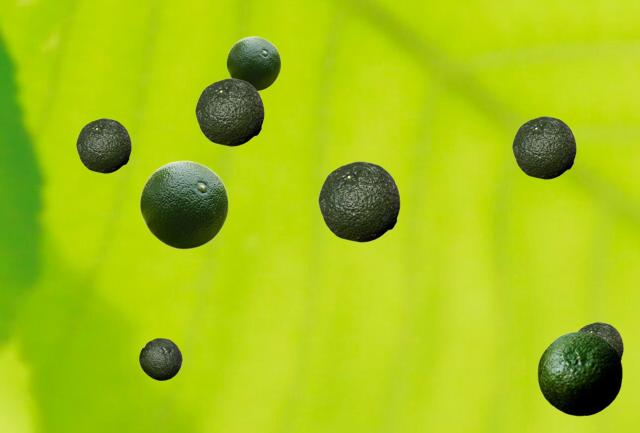calamansi: (139, 160, 228, 248), (537, 331, 621, 415), (318, 161, 399, 241), (195, 78, 263, 145), (512, 116, 575, 178), (226, 36, 280, 90), (76, 118, 130, 172), (139, 338, 181, 379), (578, 322, 622, 359)
